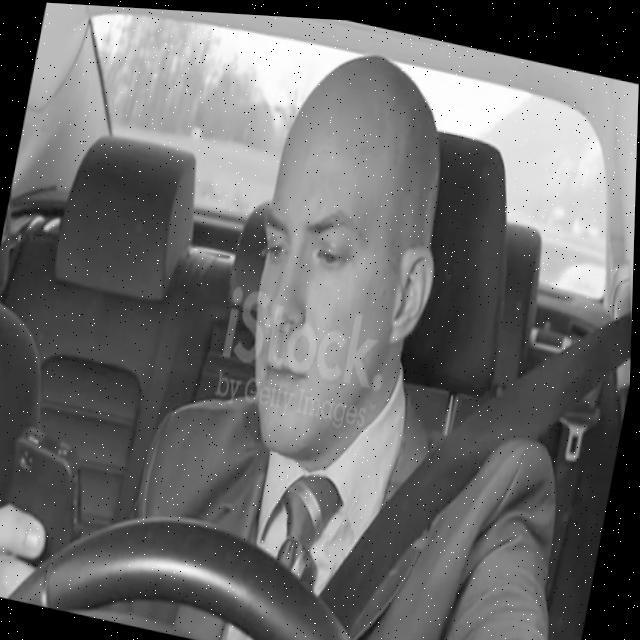PhoneCall: (0, 420, 98, 571)
